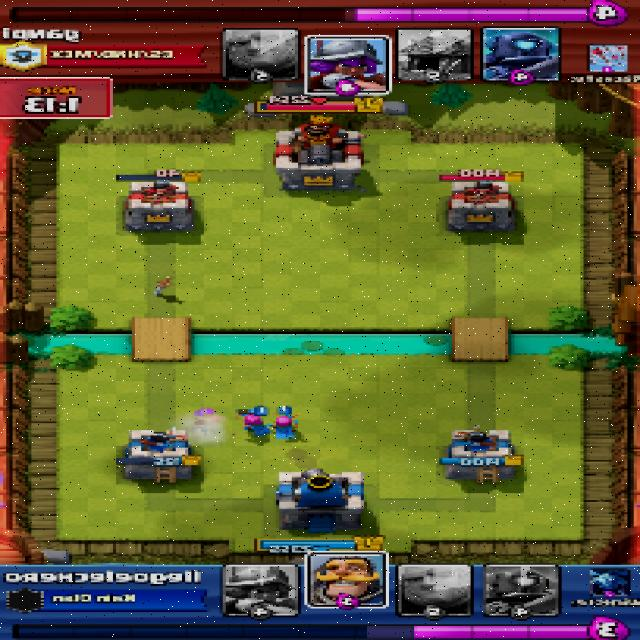Player-Archer: (270, 414, 300, 437), (242, 413, 271, 436)
